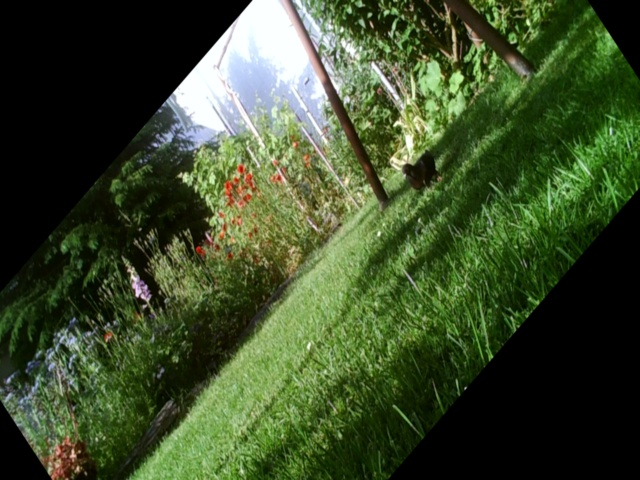Pigeon: (398, 147, 444, 194)
